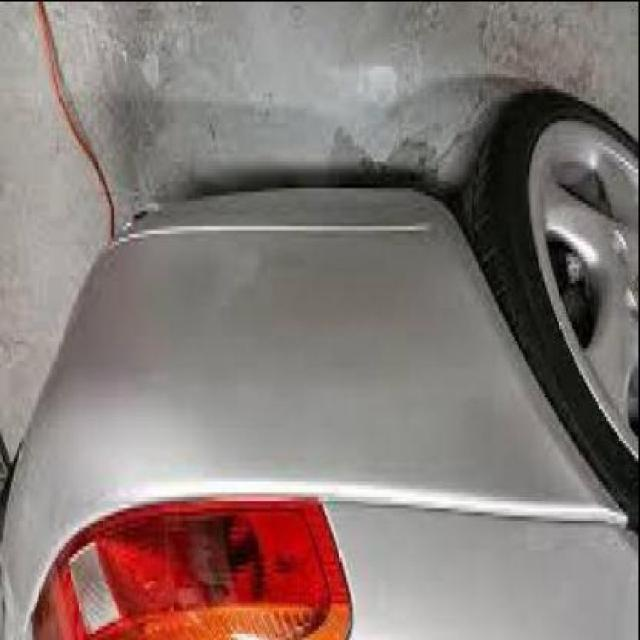damage: (111, 197, 167, 264)
